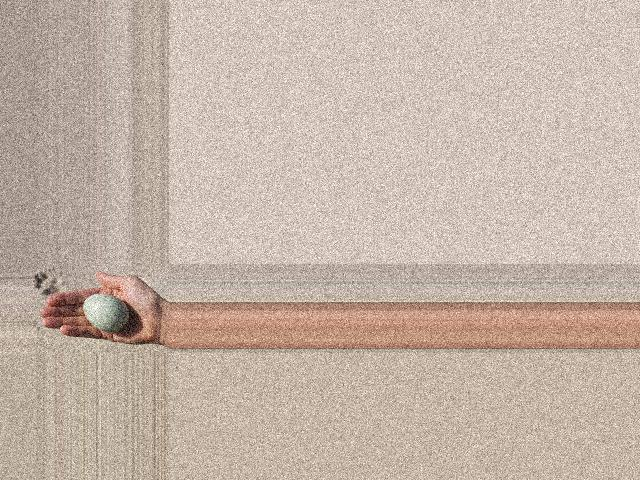egg: (83, 294, 127, 332)
